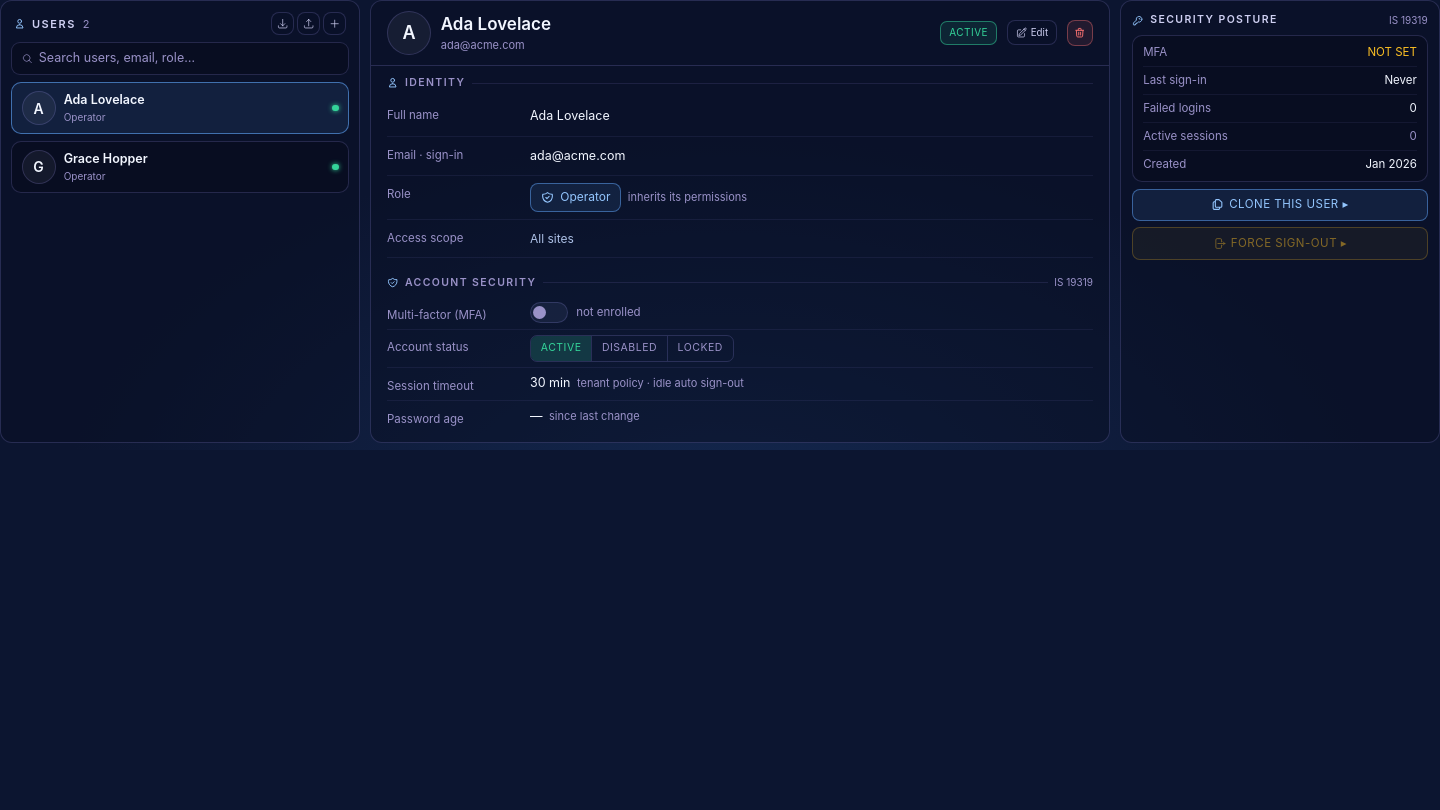
Test: the create form › refuses to post an incomplete account and names each missing field
This screenshot has width=1440, height=810.
Click the button named "new user" at (335, 24), box [323, 12, 346, 35]
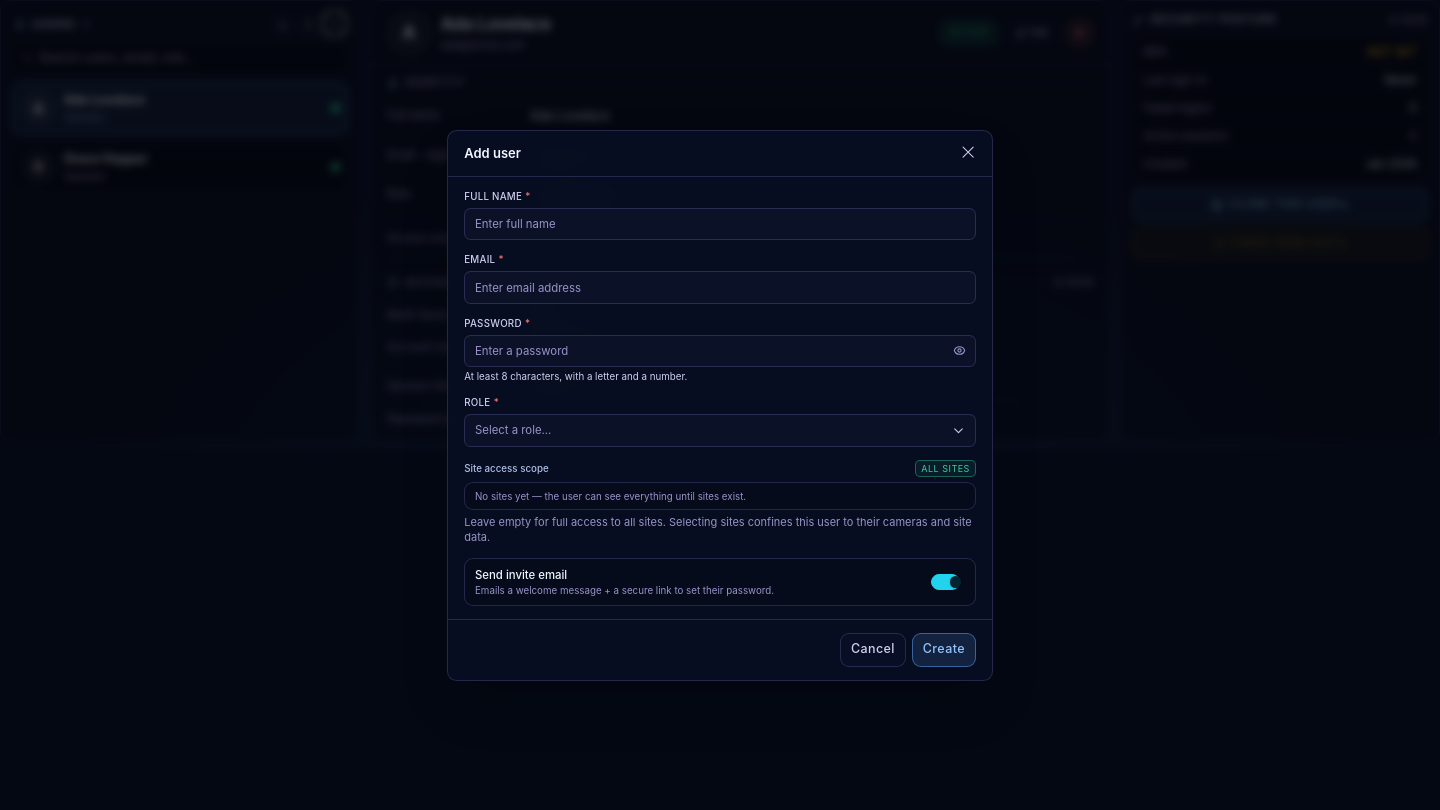
Click the button "Create" at (944, 650), box [912, 633, 976, 667]
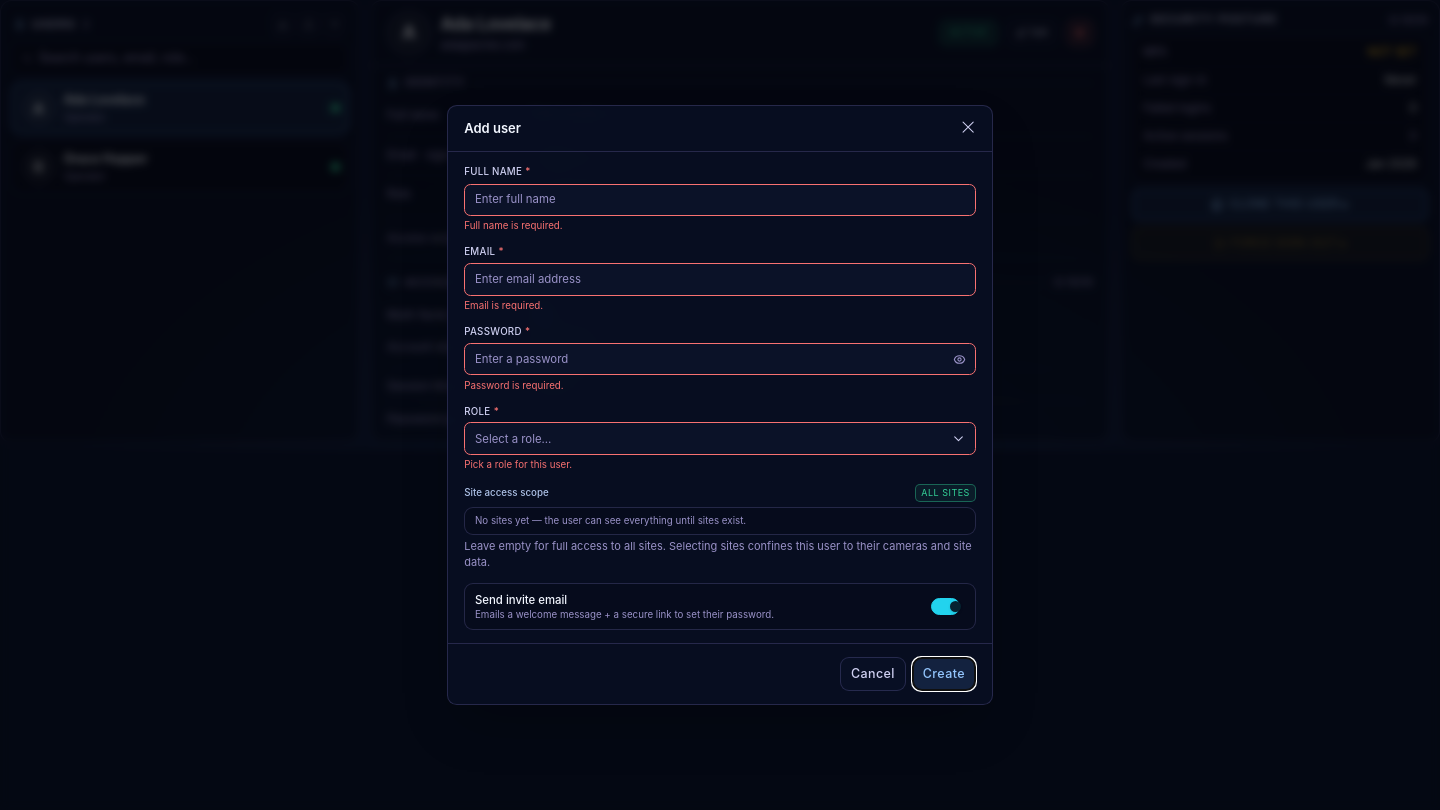
Expected: the text "Full name is required." is shown, [464, 220, 563, 231]
Expected: the text "Email is required." is shown, [464, 300, 543, 311]
Expected: the text "Pick a role for this user." is shown, [464, 459, 572, 470]
